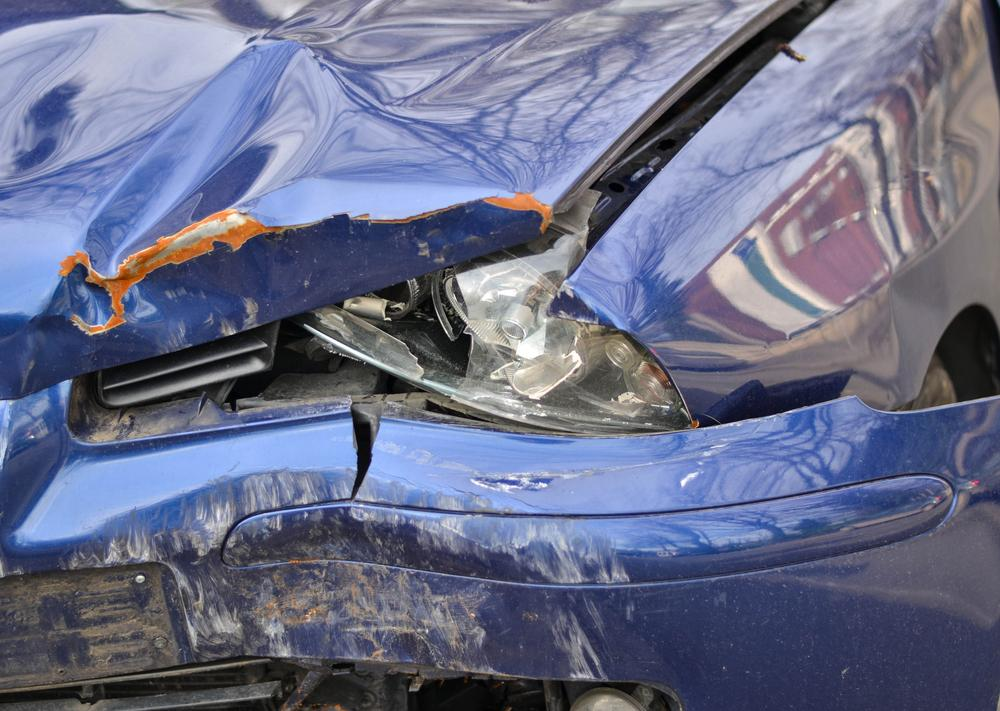crack: (347, 400, 383, 506)
dent: (0, 0, 619, 378), (68, 467, 597, 680)
lamp broken: (301, 240, 700, 435)
scratch: (543, 513, 644, 622)
